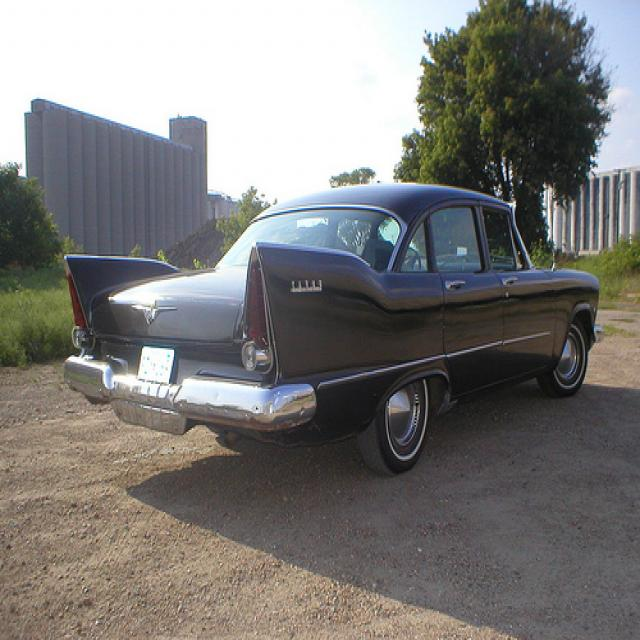Car: (61, 179, 604, 474)
